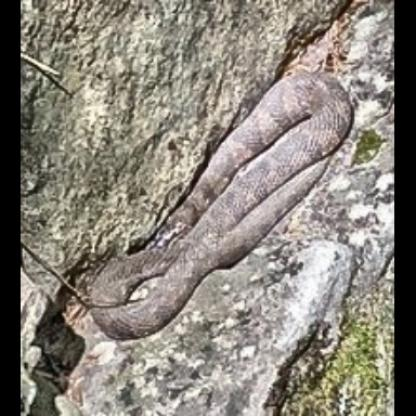Snake: (87, 67, 355, 341)
